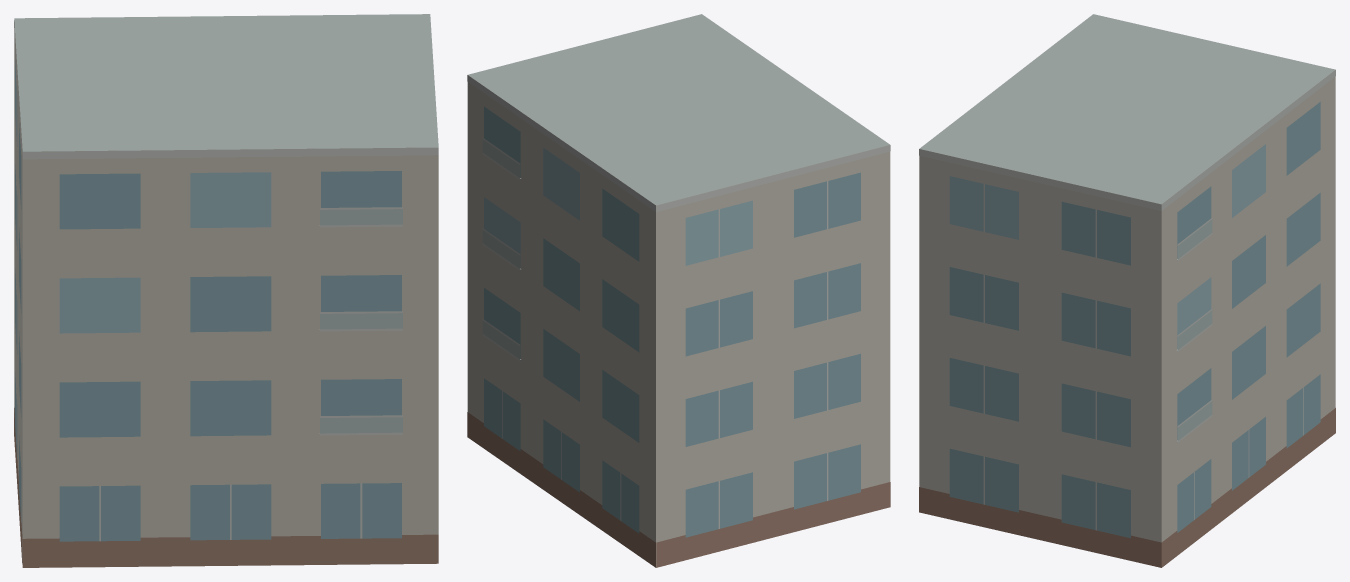
The model's file is survey-upis-32805325.glb.
The picture shows the model from 3 angles, left to right: view 1: azimuth 30°, elevation 25°; view 2: azimuth 150°, elevation 25°; view 3: azimuth 270°, elevation 25°; orthographic projection. The views are drawn at different scales.
Parts seen in each view (by area): view 1: survey-upis-32805325.tmp; view 2: survey-upis-32805325.tmp; view 3: survey-upis-32805325.tmp.
Part boxes in pixels (x1,y1,x2,y2): survey-upis-32805325.tmp: (14, 14, 438, 567); survey-upis-32805325.tmp: (467, 14, 890, 567); survey-upis-32805325.tmp: (919, 14, 1335, 567).
Bounding box in the file's own units: 14.9 × 13.26 × 13.79.
